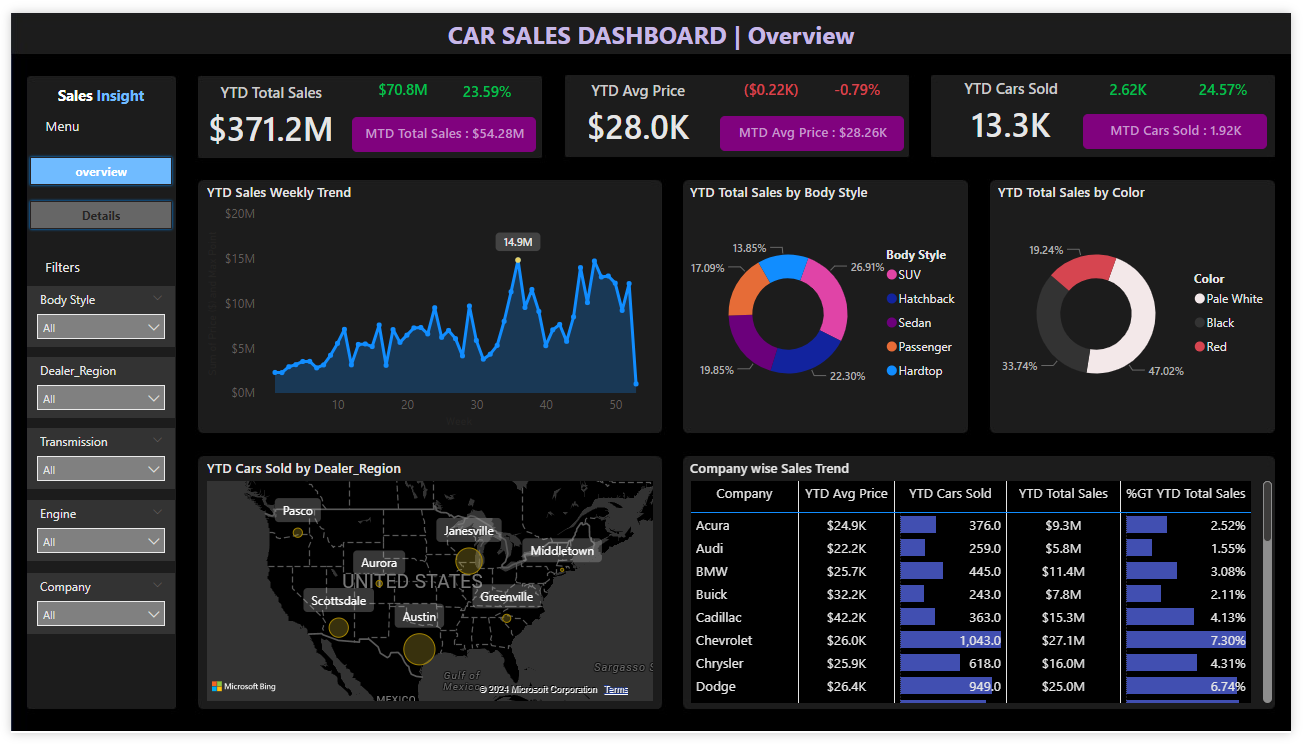

The page's visual inventory and layout, read from the dashboard file:
{"tool":"powerbi","page":{"name":"overview","canvas":[1280,720],"ordinal":0},"visuals":[{"type":"card","title":"YTD Total Sales","fields":{"Values":["car_data.YTD Total Sales"]},"box":[188,69,144,72],"z":0},{"type":"card","fields":{"Values":["car_data.Sales Difference"]},"box":[359,65,66,27],"z":1000},{"type":"card","fields":{"Values":["car_data.YoY Sales Growth"]},"box":[443,67,66,26],"z":2000},{"type":"card","fields":{"Values":["car_data.MTD KPI"]},"box":[341,104,184,35],"z":3000},{"type":"card","title":"YTD Avg Price","fields":{"Values":["car_data.YTD Avg Price"]},"box":[555,67,144,72],"z":4000},{"type":"card","fields":{"Values":["car_data.Avg Price Diff"]},"box":[727,65,66,27],"z":5000},{"type":"card","fields":{"Values":["car_data.YoY Avg Price Growth"]},"box":[813,65,66,27],"z":6000},{"type":"card","fields":{"Values":["car_data.MTD Avg Price KPI"]},"box":[709,103,184,35],"z":7000},{"type":"card","title":"YTD Cars Sold","fields":{"Values":["car_data.YTD Cars Sold"]},"box":[928,65,144,72],"z":8000},{"type":"card","fields":{"Values":["car_data.Cars Sold Diff"]},"box":[1084,65,66,27],"z":9000},{"type":"card","fields":{"Values":["car_data.YoY Cars Sold Growth"]},"box":[1179,65,66,27],"z":10000},{"type":"card","fields":{"Values":["car_data.MTD Cars Sold KPI"]},"box":[1072,101,184,35],"z":11000},{"type":"areaChart","title":"YTD Sales Weekly Trend","fields":{"Category":["Calendar Table.Week"],"Y":["Sum(car_data.Price ($))","car_data.Max Point"]},"box":[191,170,456,249],"z":12000},{"type":"donutChart","fields":{"Y":["car_data.YTD Total Sales"],"Category":["car_data.Body Style"]},"box":[674,170,284,245],"z":13000},{"type":"donutChart","fields":{"Y":["car_data.YTD Total Sales"],"Category":["car_data.Color"]},"box":[982,170,284,245],"z":14000},{"type":"map","fields":{"Category":["car_data.Dealer_Region"],"Size":["car_data.YTD Cars Sold"]},"box":[191,446,456,247],"z":15000},{"type":"tableEx","title":"Company wise Sales Trend","fields":{"Values":["car_data.Company","car_data.YTD Avg Price","car_data.YTD Cars Sold","car_data.YTD Total Sales1","car_data.YTD Total Sales"]},"box":[674,446,592,249],"z":16000},{"type":"textbox","box":[412,0,456,45],"z":17000},{"type":"slicer","fields":{"Values":["car_data.Body Style"]},"box":[16,273,148,61],"z":18000},{"type":"slicer","fields":{"Values":["car_data.Dealer_Region"]},"box":[16,344,148,61],"z":19000},{"type":"slicer","fields":{"Values":["car_data.Transmission"]},"box":[16,415,148,61],"z":20000},{"type":"slicer","fields":{"Values":["car_data.Engine"]},"box":[16,487,148,61],"z":21000},{"type":"textbox","box":[16,67,148,32],"z":22000},{"type":"textbox","box":[16,99,71,37],"z":23000},{"type":"pageNavigator","box":[16,141,148,79],"z":24000},{"type":"textbox","box":[16,240,71,33],"z":24001},{"type":"slicer","fields":{"Values":["car_data.Company"]},"box":[16,560,148,61],"z":24002}]}

Visuals, with their boxes in screenshot pixels (x1, y1, x2, y2), scaled from the page's 1280x720 canvas onto the 1304x744 screenshot:
"YTD Total Sales" card: select_region(192, 71, 338, 146)
card - car_data.Sales Difference: select_region(366, 67, 433, 95)
card - car_data.YoY Sales Growth: select_region(451, 69, 519, 96)
card - car_data.MTD KPI: select_region(347, 107, 535, 144)
"YTD Avg Price" card: select_region(565, 69, 712, 144)
card - car_data.Avg Price Diff: select_region(741, 67, 808, 95)
card - car_data.YoY Avg Price Growth: select_region(828, 67, 895, 95)
card - car_data.MTD Avg Price KPI: select_region(722, 106, 910, 143)
"YTD Cars Sold" card: select_region(945, 67, 1092, 142)
card - car_data.Cars Sold Diff: select_region(1104, 67, 1172, 95)
card - car_data.YoY Cars Sold Growth: select_region(1201, 67, 1268, 95)
card - car_data.MTD Cars Sold KPI: select_region(1092, 104, 1280, 141)
"YTD Sales Weekly Trend" areaChart: select_region(195, 176, 659, 433)
donutChart - car_data.YTD Total Sales x car_data.Body Style: select_region(687, 176, 976, 429)
donutChart - car_data.YTD Total Sales x car_data.Color: select_region(1000, 176, 1290, 429)
map - car_data.Dealer_Region x car_data.YTD Cars Sold: select_region(195, 461, 659, 716)
"Company wise Sales Trend" tableEx: select_region(687, 461, 1290, 718)
textbox: select_region(420, 0, 884, 47)
slicer - car_data.Body Style: select_region(16, 282, 167, 345)
slicer - car_data.Dealer_Region: select_region(16, 355, 167, 419)
slicer - car_data.Transmission: select_region(16, 429, 167, 492)
slicer - car_data.Engine: select_region(16, 503, 167, 566)
textbox: select_region(16, 69, 167, 102)
textbox: select_region(16, 102, 89, 141)
pageNavigator: select_region(16, 146, 167, 227)
textbox: select_region(16, 248, 89, 282)
slicer - car_data.Company: select_region(16, 579, 167, 642)
